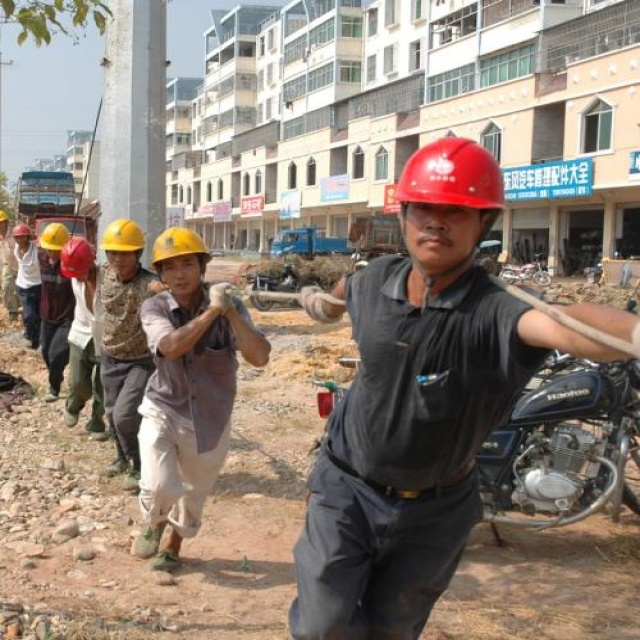Helmet: (337, 256, 530, 519), (380, 119, 521, 301), (141, 286, 239, 439), (145, 221, 222, 314), (98, 272, 156, 378), (95, 208, 152, 292), (55, 232, 97, 295), (33, 216, 71, 266)
